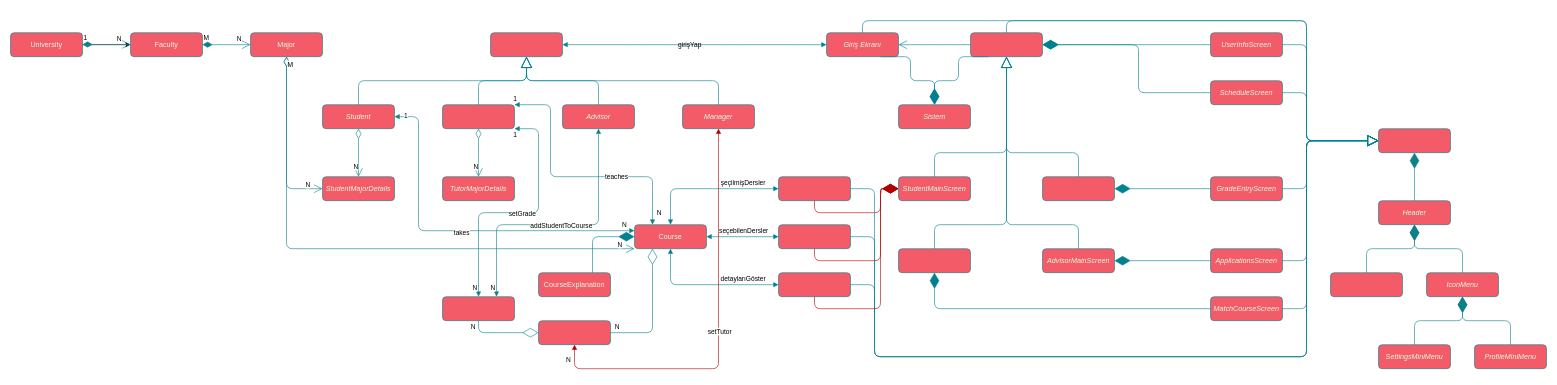
Image size: 1557x385. Some labels were removed from this diagram. The shapes that lost their labels are listed below. From the top down, each one's centre as x and y in pixels, then its label:
At point (526, 44): "User".
At point (1006, 44): "Ana Ekranı".
At point (478, 116): "Tutor".
At point (1414, 140): "Screen".
At point (814, 188): "CoursesScreen".
At point (1078, 188): "TutorMainScreen".
At point (814, 236): "CourseSelectionScreen".
At point (934, 260): "ManagerMainScreen".
At point (814, 284): "CourseDetailScreen".
At point (1366, 284): "ListMenu".
At point (478, 308): "StudentCourseDetails".
At point (574, 332): "CourseClass".
